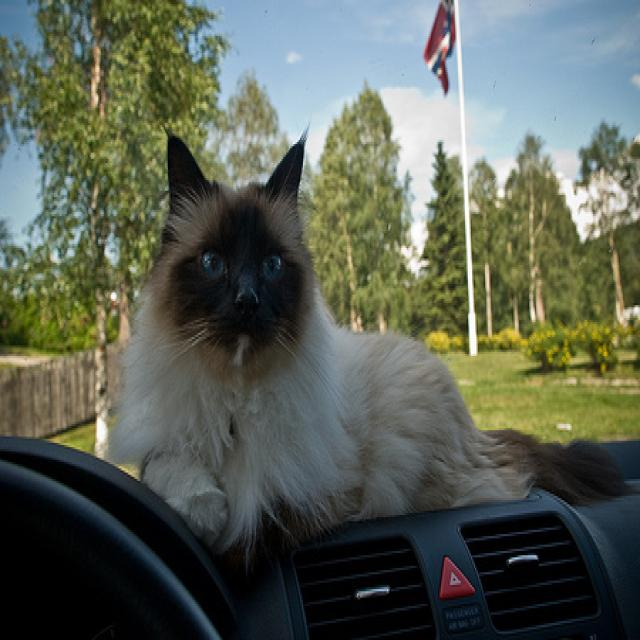Birman: (109, 122, 640, 546)
